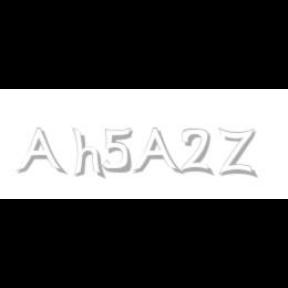2: (178, 128, 212, 176)
5: (102, 128, 132, 174)
A: (16, 128, 64, 176), (132, 128, 180, 176)
Z: (218, 128, 255, 178)
h: (72, 128, 108, 180)
